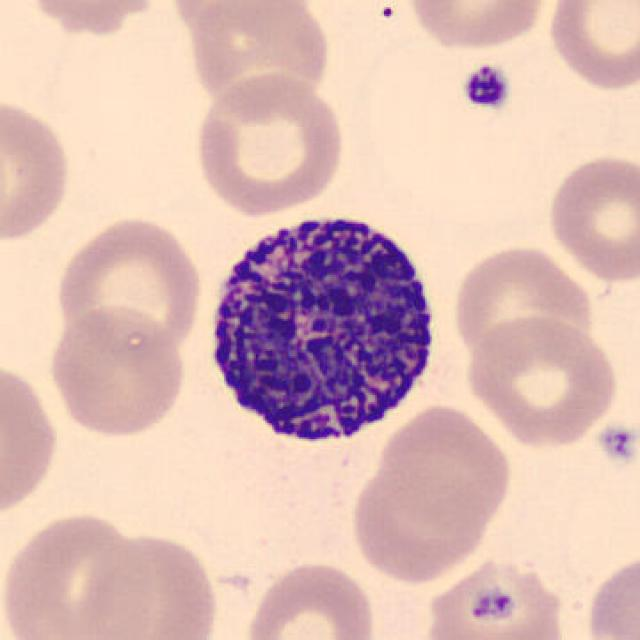Basophil: (194, 196, 452, 457)
Platelets: (458, 63, 514, 113), (598, 422, 636, 468)
RBC: (190, 68, 348, 218), (460, 310, 622, 450), (52, 211, 206, 358), (0, 506, 155, 640), (43, 301, 190, 441), (345, 457, 499, 585), (448, 240, 597, 365), (373, 400, 514, 529), (179, 0, 334, 116), (73, 527, 224, 640), (417, 553, 574, 640), (542, 150, 638, 286), (240, 557, 380, 640), (0, 93, 75, 247), (0, 356, 62, 524), (544, 0, 638, 93), (403, 0, 553, 53), (20, 0, 170, 39), (165, 0, 290, 41), (582, 550, 638, 640)
